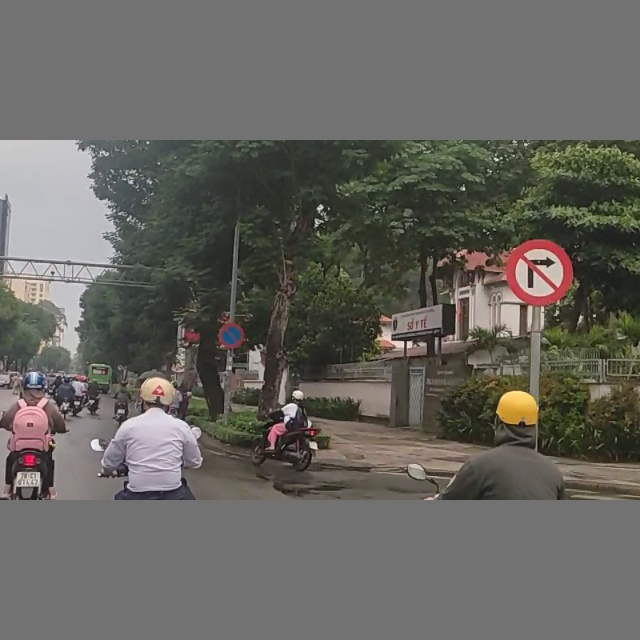P.123b: (505, 238, 575, 305)
P.131a: (218, 322, 244, 349)
